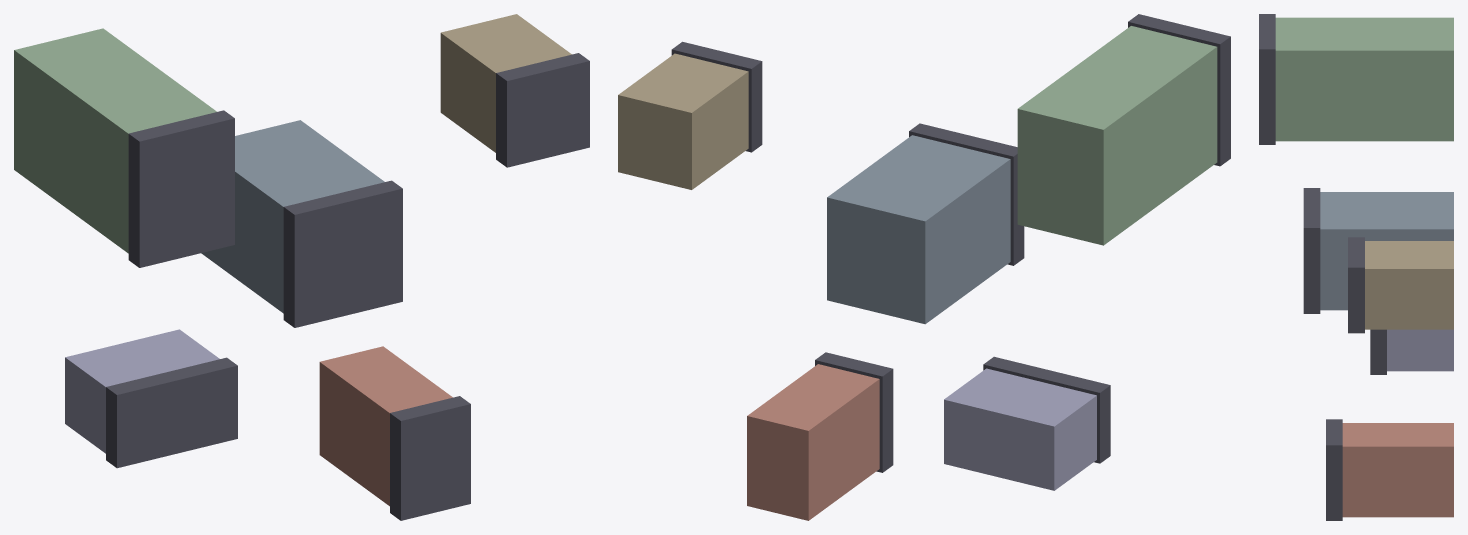
Rendered from lowair_demo_buildings.obj.
The picture shows the model from 3 angles, left to right: view 1: azimuth 30°, elevation 25°; view 2: azimuth 150°, elevation 25°; view 3: azimuth 270°, elevation 25°; orthographic projection. The views are drawn at different scales.
Parts seen in each view (by area): view 1: building_03_body, building_01_roof, building_03_roof, building_01_body, building_04_body, building_05_roof, building_02_roof, building_04_roof, building_02_body, building_05_body; view 2: building_03_body, building_01_body, building_04_body, building_05_body, building_02_body, building_03_roof, building_05_roof, building_01_roof, building_04_roof, building_02_roof; view 3: building_03_body, building_04_body, building_01_body, building_02_body, building_05_body, building_01_roof, building_03_roof, building_04_roof, building_02_roof, building_05_roof.
Boxes of the visible parts, box(x1,y1,x2,y2) form: building_03_body: box(14, 28, 216, 253); building_01_roof: box(283, 180, 402, 327); building_03_roof: box(128, 110, 234, 267); building_01_body: box(201, 120, 384, 313); building_04_body: box(319, 346, 452, 506); building_05_roof: box(106, 357, 237, 468); building_02_roof: box(496, 53, 589, 167); building_04_roof: box(390, 396, 470, 520); building_02_body: box(440, 14, 571, 152); building_05_body: box(65, 329, 219, 453); building_03_body: box(1017, 26, 1217, 245); building_01_body: box(827, 135, 1010, 324); building_04_body: box(747, 364, 879, 520); building_05_body: box(944, 368, 1096, 490); building_02_body: box(618, 53, 748, 189); building_03_roof: box(1128, 14, 1230, 166); building_05_roof: box(983, 356, 1110, 463); building_01_roof: box(909, 123, 1024, 265); building_04_roof: box(815, 352, 893, 472); building_02_roof: box(671, 41, 762, 152); building_03_body: box(1275, 17, 1453, 141); building_04_body: box(1342, 423, 1453, 517); building_01_body: box(1320, 192, 1453, 310); building_02_body: box(1365, 241, 1453, 329); building_05_body: box(1387, 329, 1453, 371); building_01_roof: box(1303, 188, 1320, 313); building_03_roof: box(1259, 14, 1275, 144); building_04_roof: box(1326, 419, 1342, 520); building_02_roof: box(1348, 237, 1364, 333); building_05_roof: box(1370, 329, 1386, 374).
Bounding box in the file's own units: 40 × 36.5 × 17.5.
